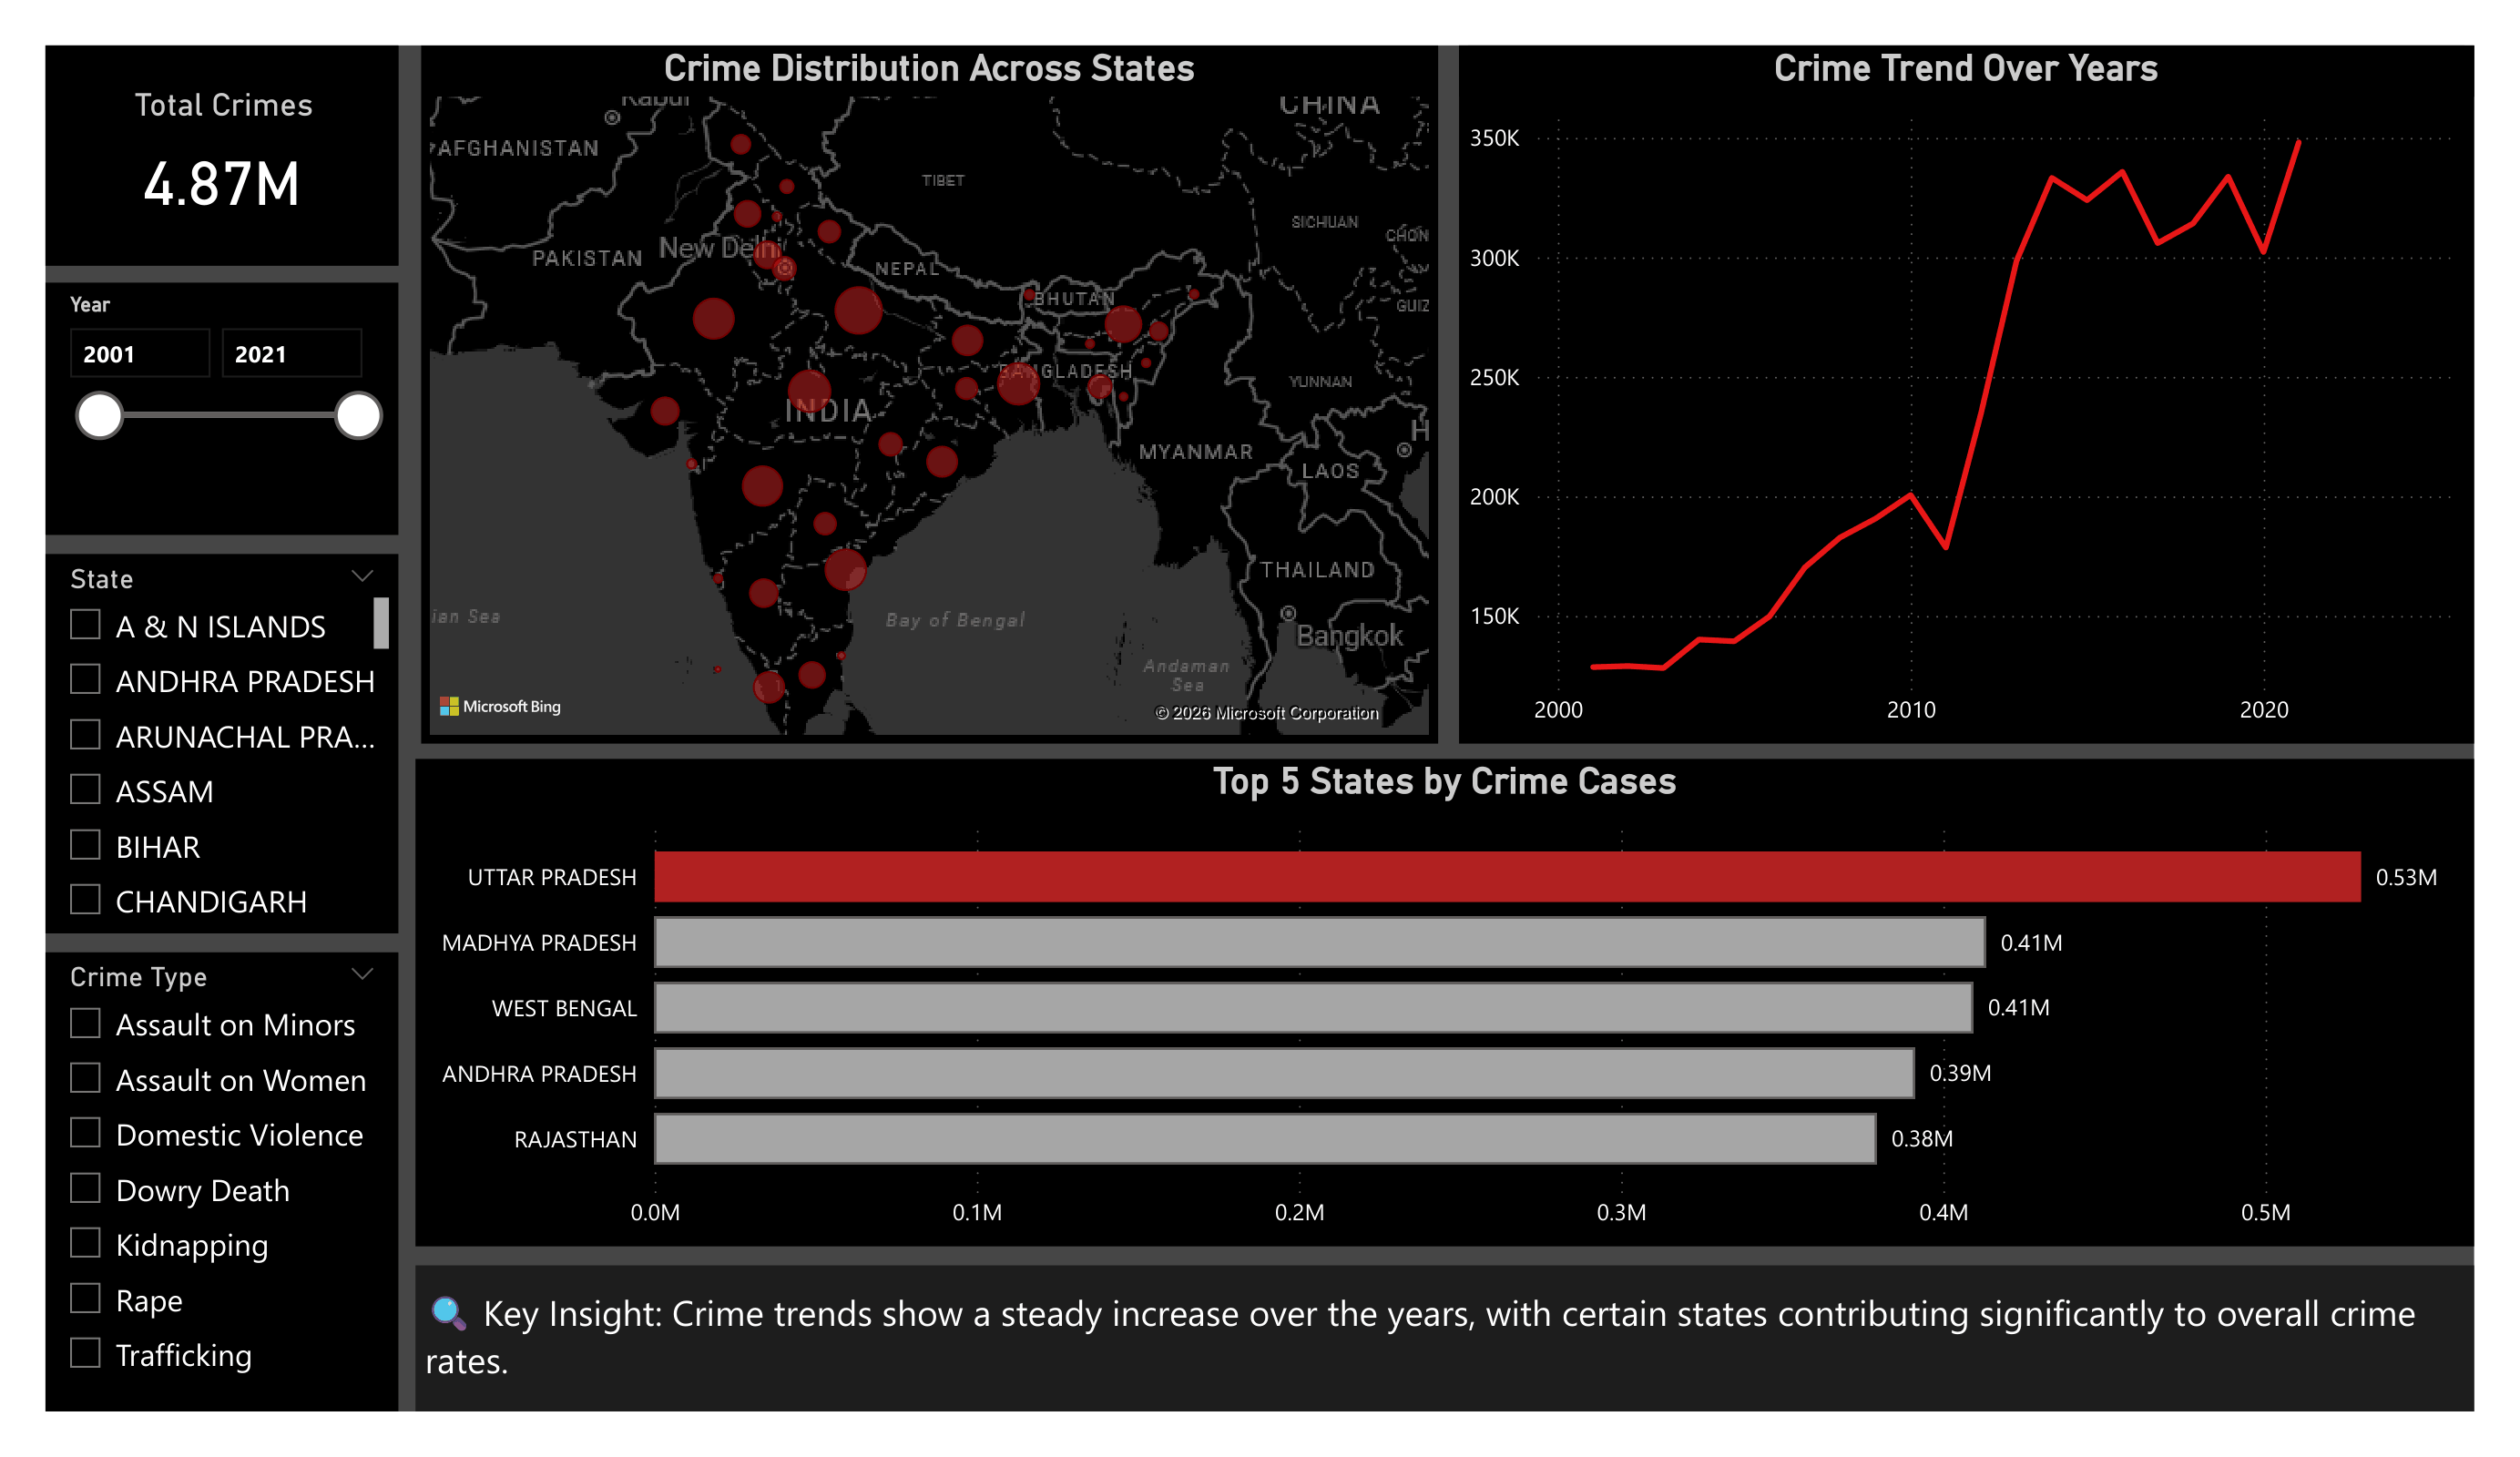

Layout of this report page (visuals, bound fields, positions):
{"tool":"powerbi","page":{"name":"Overview","canvas":[1280,720],"ordinal":0},"visuals":[{"type":"card","title":"Total Crimes","fields":{"Values":["Sum(CrimesOnWomenData.Cases)"]},"box":[0,0,186.2,116.2],"z":0},{"type":"lineChart","title":"Crime Trend Over Years","fields":{"Category":["CrimesOnWomenData.Year"],"Y":["Sum(CrimesOnWomenData.Cases)"]},"box":[745,0,535,367.5],"z":1000},{"type":"clusteredBarChart","title":"Top 5 States by Crime Cases","fields":{"Category":["CrimesOnWomenData.State"],"Y":["Sum(CrimesOnWomenData.Cases)"]},"box":[195,376.2,1085,256.2],"z":2000},{"type":"map","title":"Crime Distribution Across States","fields":{"Category":["CrimesOnWomenData.State"],"Size":["Sum(CrimesOnWomenData.Cases)"]},"box":[197.5,0,536.2,367.5],"z":3000},{"type":"slicer","fields":{"Values":["CrimesOnWomenData.Year"]},"box":[0,125,186.2,132.5],"z":4000},{"type":"slicer","fields":{"Values":["CrimesOnWomenData.State"]},"box":[0,267.5,186.2,200],"z":5000},{"type":"slicer","fields":{"Values":["CrimesOnWomenData.Crime Type"]},"box":[0,477.5,186.2,242.5],"z":6000},{"type":"textbox","box":[195.1,642.9,1084.7,77.3],"z":7000}]}

Visuals, with their boxes on the page's 1280x720 design canvas (x1, y1, x2, y2). These are canvas units, not pixel positions in the 2520x1457 screenshot, which may show the page scaled, cropped or inside an application window:
"Total Crimes" card: 0:0:186:116
"Crime Trend Over Years" lineChart: 745:0:1280:368
"Top 5 States by Crime Cases" clusteredBarChart: 195:376:1280:632
"Crime Distribution Across States" map: 198:0:734:368
slicer - CrimesOnWomenData.Year: 0:125:186:258
slicer - CrimesOnWomenData.State: 0:268:186:468
slicer - CrimesOnWomenData.Crime Type: 0:478:186:720
textbox: 195:643:1280:720
